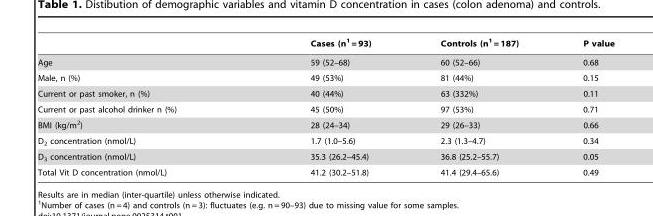table: (37, 37, 613, 176)
table column: (37, 37, 242, 176), (242, 37, 405, 176), (405, 37, 550, 176), (550, 37, 613, 176)
table column header: (37, 37, 613, 52)
table row: (37, 52, 613, 69), (37, 132, 613, 149), (37, 69, 613, 85), (37, 85, 613, 101), (37, 116, 613, 132), (37, 37, 613, 52), (37, 101, 613, 116), (37, 149, 613, 164), (37, 164, 613, 176)
